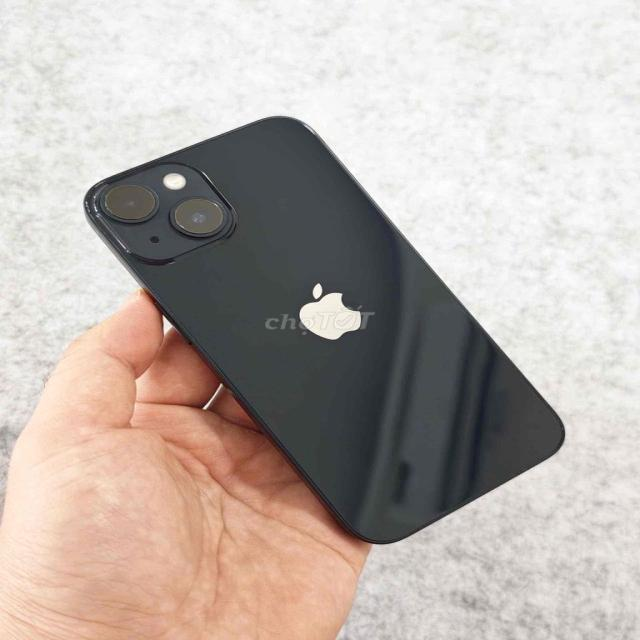scratch: (76, 178, 112, 238)
